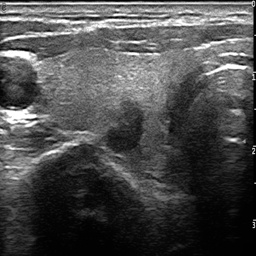mass: (105, 101, 142, 149)
